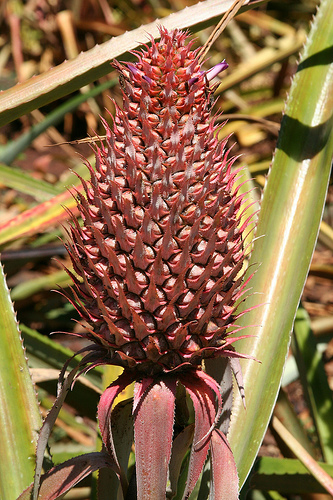pineapple: (46, 18, 266, 380)
